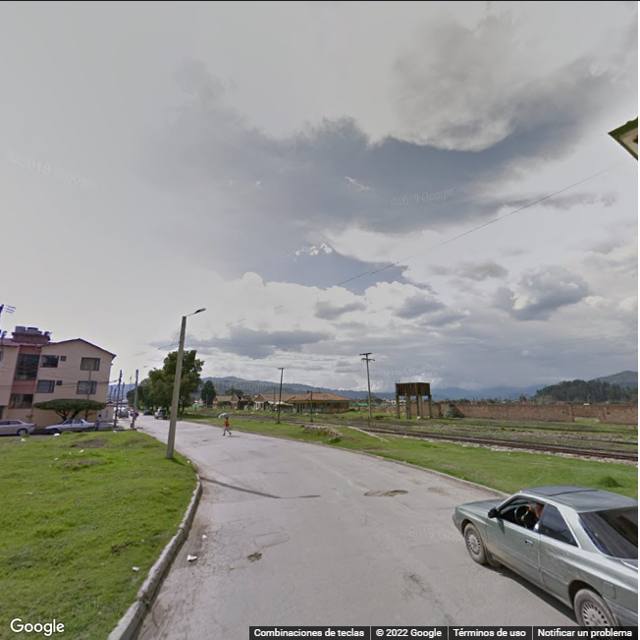D00: (413, 570, 453, 627)
D20: (175, 524, 244, 625)
